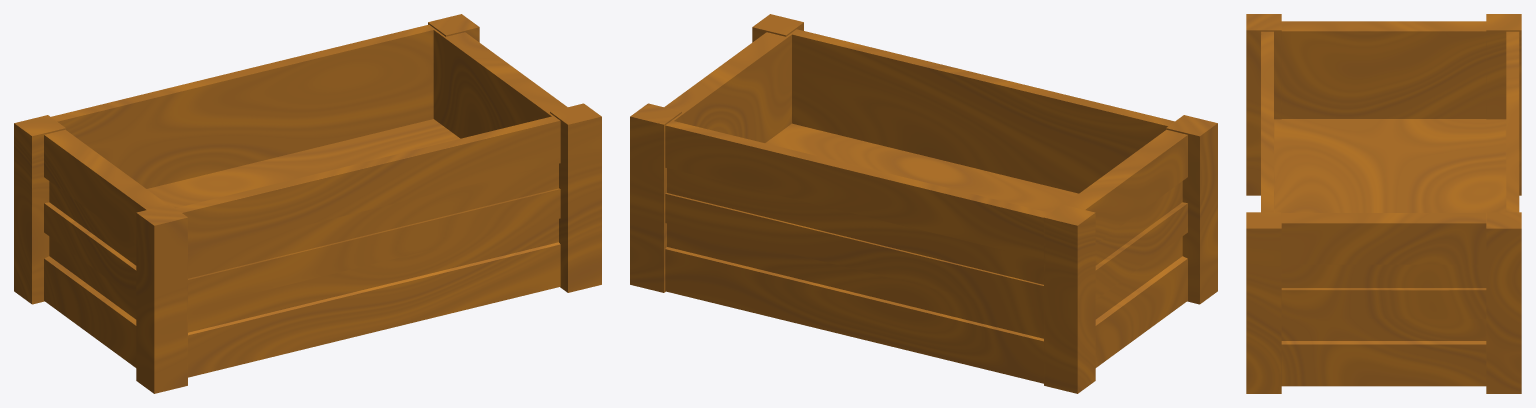
The model's file is kasa.fbx.
3 renders of one model, left to right at view 1: azimuth 30°, elevation 25°; view 2: azimuth 150°, elevation 25°; view 3: azimuth 270°, elevation 25°, orthographic.
Parts seen in each view (by area): view 1: Cube.021; view 2: Cube.021; view 3: Cube.021.
Boxes of the visible parts, x1=… form: Cube.021: x1=14, y1=14, x2=601, y2=393; Cube.021: x1=630, y1=14, x2=1217, y2=393; Cube.021: x1=1246, y1=14, x2=1521, y2=393.
Bounding box in the file's own units: 2.13 × 0.7634 × 1.15.
Materials: 1 (1 with a texture image).
